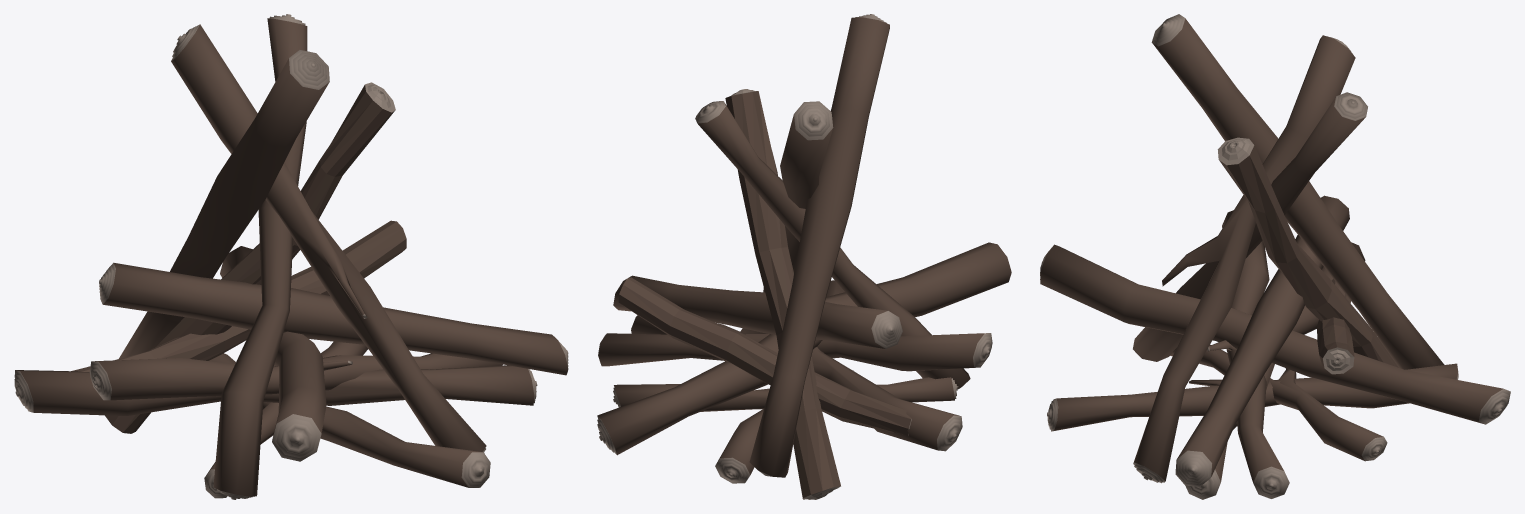
File: wodden_sticks.fbx
3 views of the same model, side by side, from view 1: azimuth 30°, elevation 25°; view 2: azimuth 150°, elevation 25°; view 3: azimuth 270°, elevation 25° (orthographic). The views are drawn at different scales.
Visible parts, largest first — view 1: wooden_sticks; view 2: wooden_sticks; view 3: wooden_sticks.
Boxes of the visible parts, x1,y1,x2,y2 form: wooden_sticks: (14, 14, 568, 499); wooden_sticks: (597, 14, 1011, 499); wooden_sticks: (1040, 14, 1510, 499).
Size of the model in its own units: 15.33 by 14.92 by 14.13.
